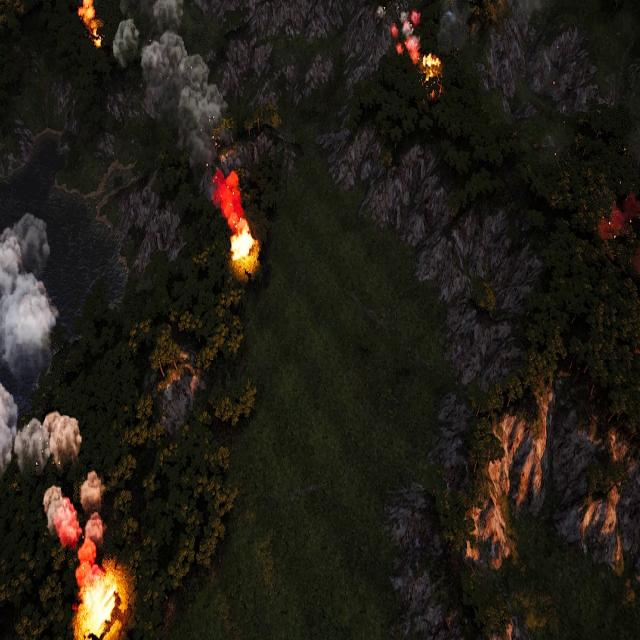fire: (77, 565, 121, 639), (231, 220, 257, 269), (80, 0, 104, 48), (421, 53, 443, 98), (598, 207, 623, 241)
smoke: (1, 212, 111, 582), (112, 3, 248, 233), (375, 1, 419, 61)
